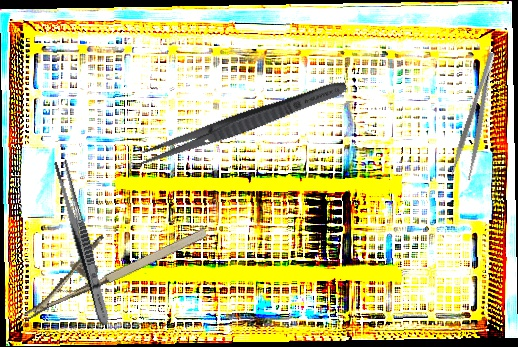Dressing Forceps: (134, 75, 350, 172), (50, 158, 115, 328), (449, 51, 508, 181)
Needle Holder: (6, 197, 211, 321)
